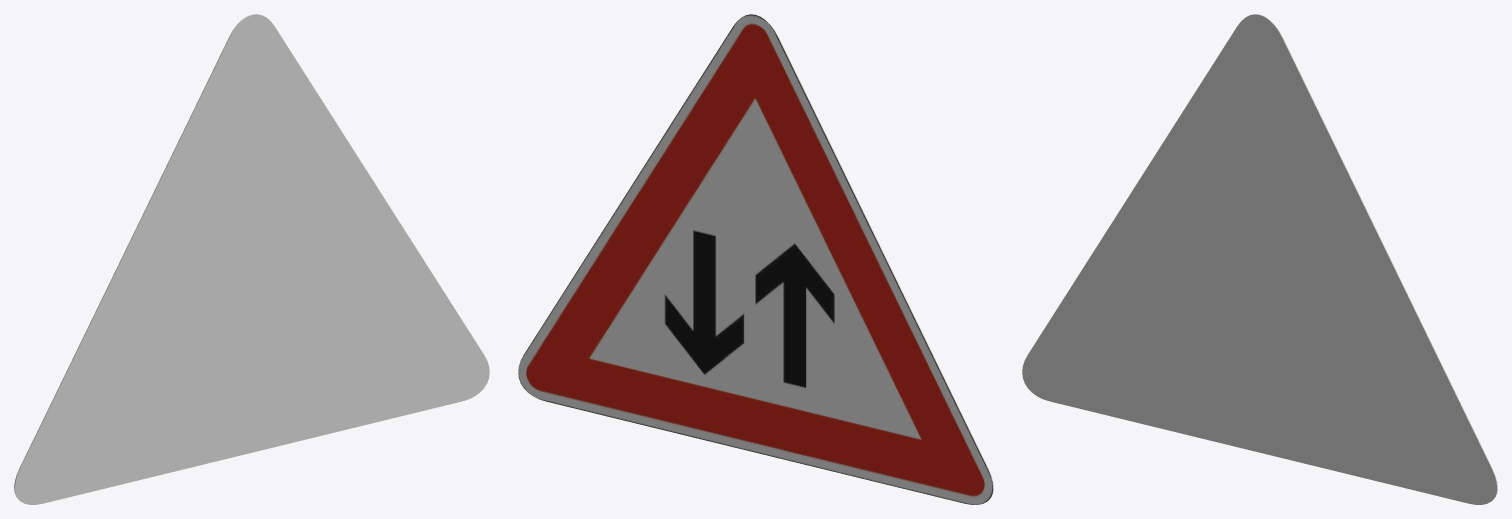
3 views of the same model, side by side, from view 1: azimuth 30°, elevation 25°; view 2: azimuth 150°, elevation 25°; view 3: azimuth 330°, elevation 25° (orthographic).
Parts seen in each view (by area): view 1: Plane; view 2: Plane; view 3: Plane.
Boxes of the visible parts, x1,y1,x2,y2 form: Plane: (14,14,489,504); Plane: (518,14,993,504); Plane: (1022,14,1497,504).
Bounding box in the file's own units: 0.8393 × 0.7391 × 0.002.
Materials: 2 (1 with a texture image).
